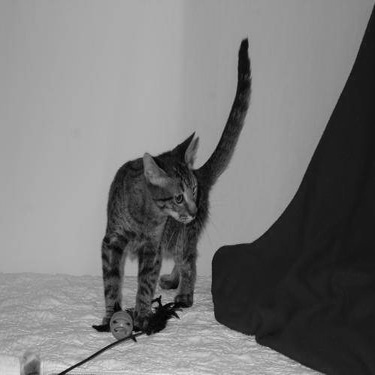cat: (90, 28, 253, 338)
